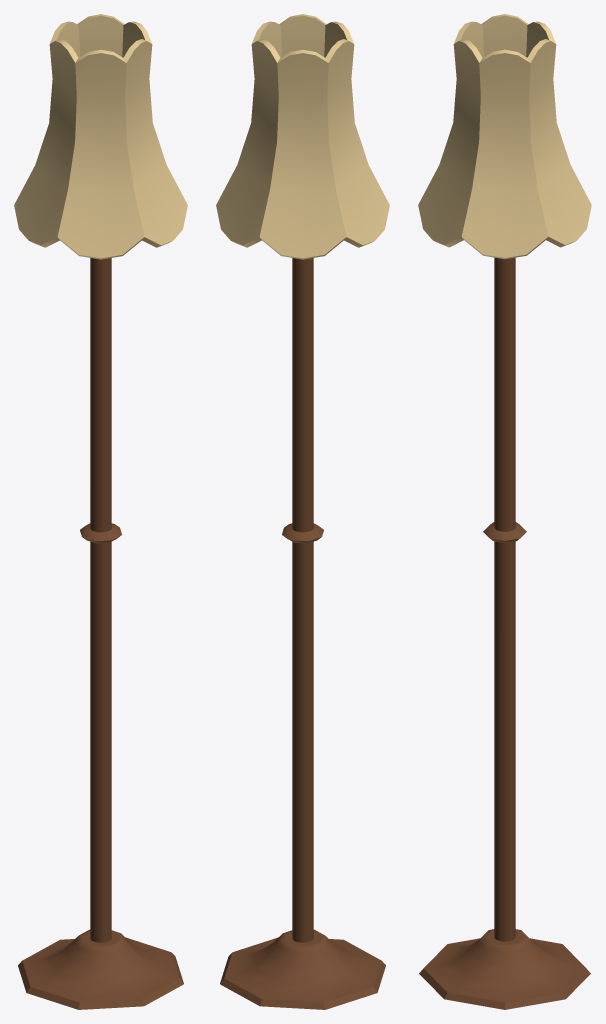
The model's file is lamp.fbx.
3 views of the same model, side by side, from view 1: azimuth 30°, elevation 25°; view 2: azimuth 150°, elevation 25°; view 3: azimuth 270°, elevation 25° (orthographic).
Parts seen in each view (by area): view 1: Circle.005, Cylinder.001, Circle, Circle.001; view 2: Circle.005, Cylinder.001, Circle, Circle.001; view 3: Circle.005, Cylinder.001, Circle, Circle.001.
Boxes of the visible parts, box(x1,y1,x2,y2) form: Circle.005: box(14, 14, 187, 259); Cylinder.001: box(90, 258, 111, 942); Circle: box(18, 929, 183, 1009); Circle.001: box(80, 523, 121, 543); Circle.005: box(216, 14, 389, 259); Cylinder.001: box(292, 258, 313, 942); Circle: box(220, 929, 385, 1009); Circle.001: box(282, 523, 323, 543); Circle.005: box(418, 14, 591, 259); Cylinder.001: box(494, 257, 515, 941); Circle: box(419, 929, 590, 1009); Circle.001: box(483, 522, 526, 543).
Bounding box in the file's own units: 30.24 × 183 × 30.53.
